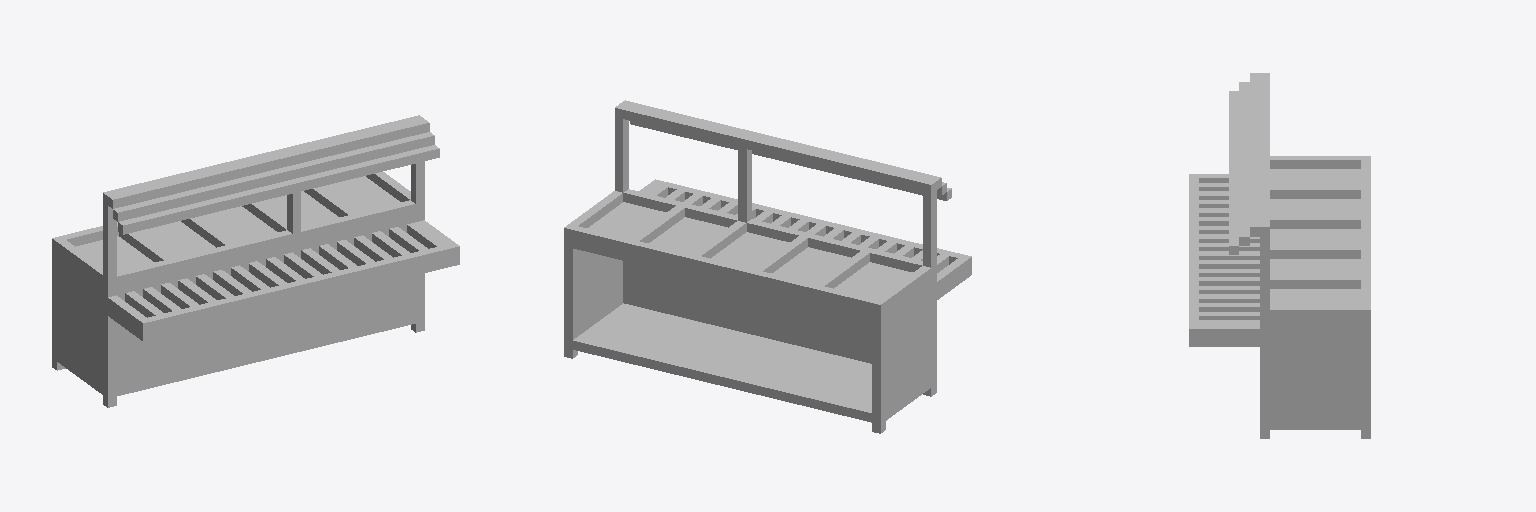
Rendered from Cafeateria full.obj.
3 renders of one model, left to right at view 1: azimuth 30°, elevation 25°; view 2: azimuth 150°, elevation 25°; view 3: azimuth 270°, elevation 25°, orthographic.
Bounding box in the file's own units: 36 × 23 × 18.